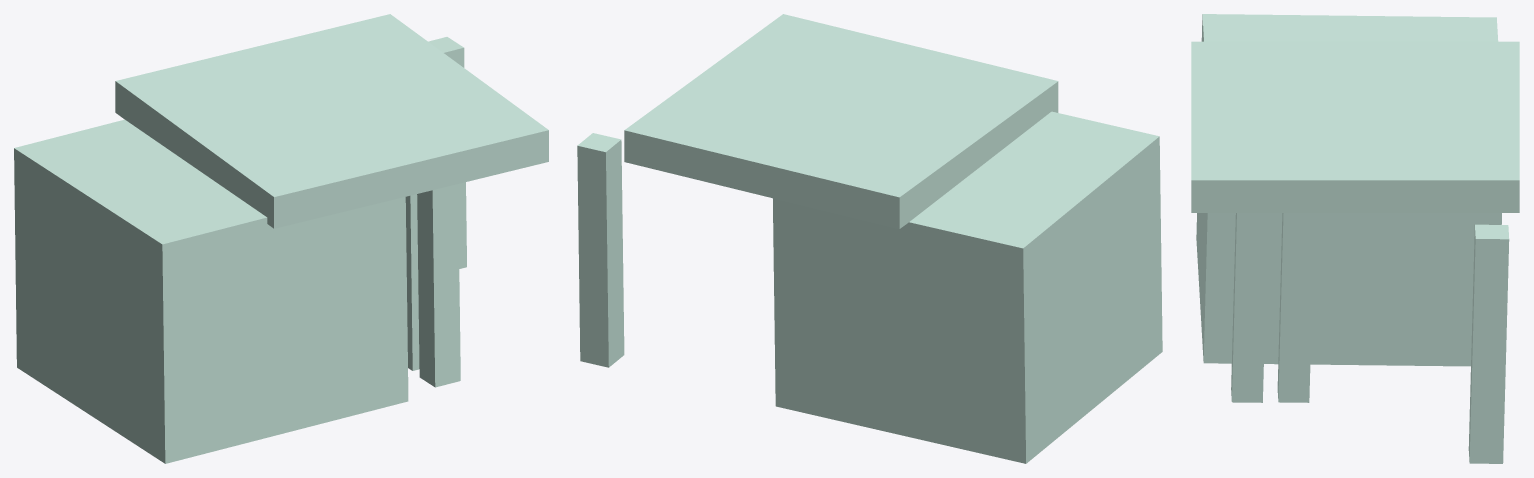
3 renders of one model, left to right at view 1: azimuth 30°, elevation 25°; view 2: azimuth 150°, elevation 25°; view 3: azimuth 270°, elevation 25°, orthographic. The views are drawn at different scales.
Visible parts, largest first — view 1: Renderer Node; view 2: Renderer Node; view 3: Renderer Node.
Boxes of the visible parts, x1,y1,x2,y2 form: Renderer Node: (14,14,548,463); Renderer Node: (577,14,1162,463); Renderer Node: (1191,14,1519,463).
Size of the model in its own units: 1.59 by 0.8591 by 0.9922.
